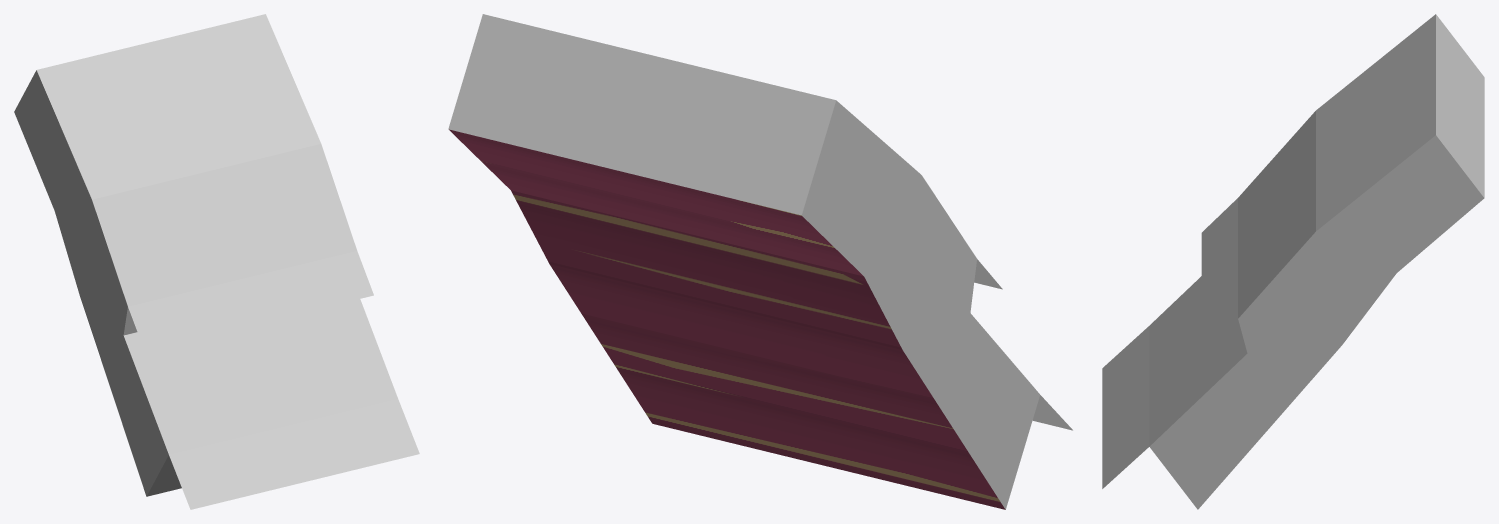
Rendered from SM_Bld_Roof_Thatch_S_Half_01.fbx.
3 views of the same model, side by side, from view 1: azimuth 30°, elevation 25°; view 2: azimuth 150°, elevation 25°; view 3: azimuth 270°, elevation 25° (orthographic). The views are drawn at different scales.
Parts seen in each view (by area): view 1: SM_Bld_Roof_Thatch_S_Half_01; view 2: SM_Bld_Roof_Thatch_S_Half_01; view 3: SM_Bld_Roof_Thatch_S_Half_01.
Part boxes in pixels (x1,y1,x2,y2): SM_Bld_Roof_Thatch_S_Half_01: (14, 14, 419, 509); SM_Bld_Roof_Thatch_S_Half_01: (448, 14, 1072, 509); SM_Bld_Roof_Thatch_S_Half_01: (1102, 14, 1484, 509).
Bounding box in the file's own units: 125 × 180 × 167.
